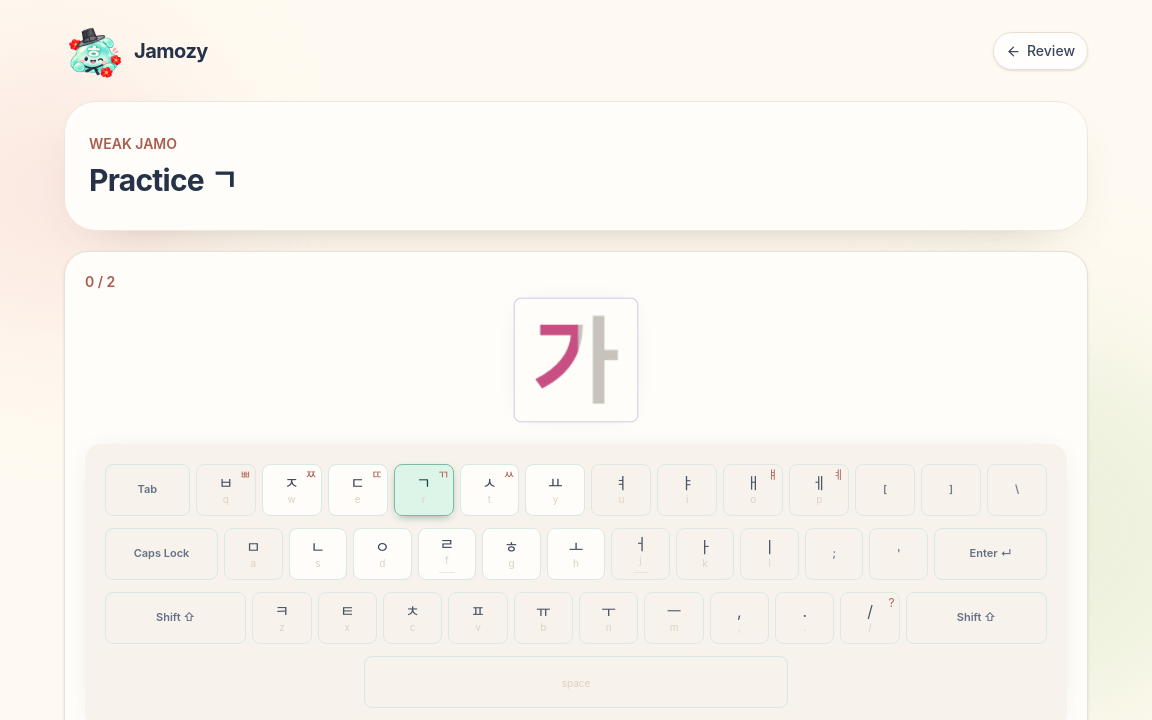
Scenario: WeakJamoPage › starts one new round with a newly drawn set on "Practice again"
The width and height of the screenshot is (1152, 720).
(page scrolled)
Expected: the picture named "가" is shown, [514, 298, 638, 422]
Press KeyR
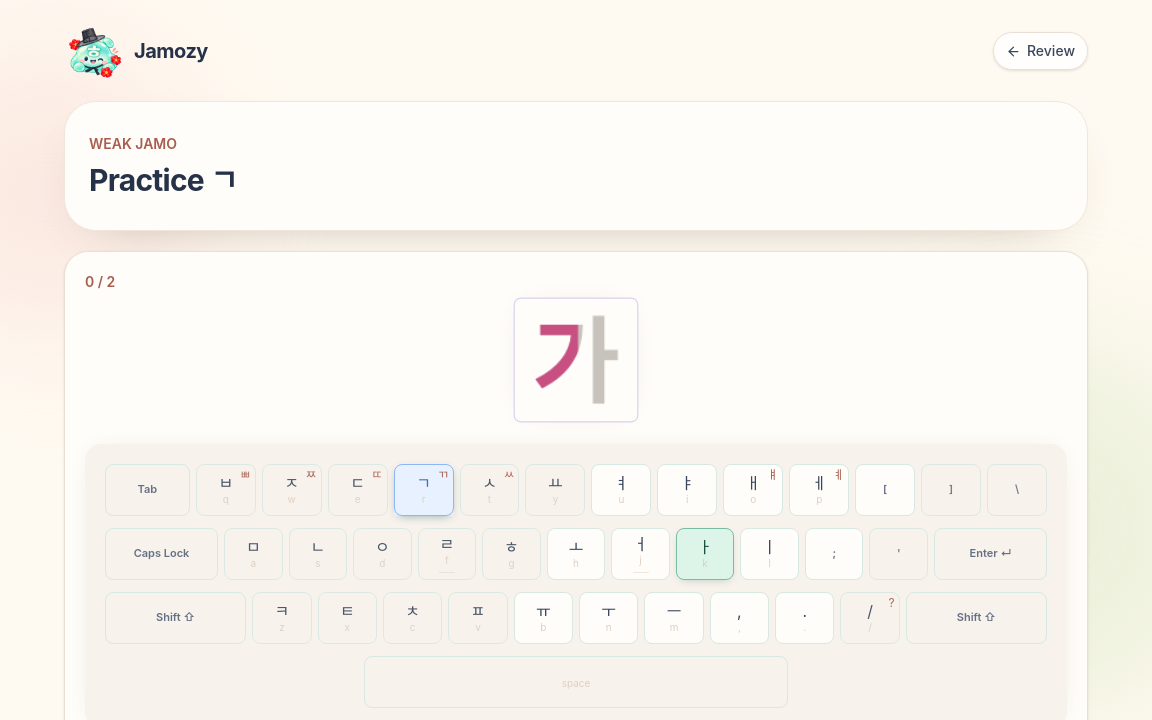
Press KeyK
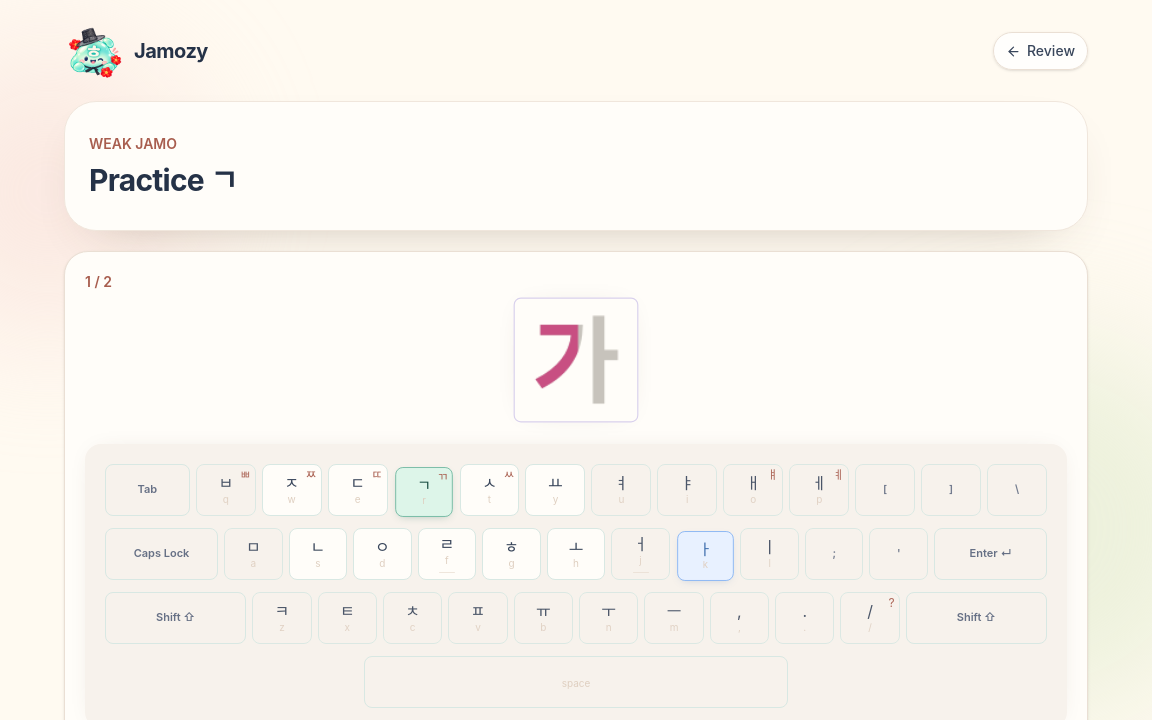
Expected: the picture named "가" is shown, [514, 298, 638, 422]
Press KeyR
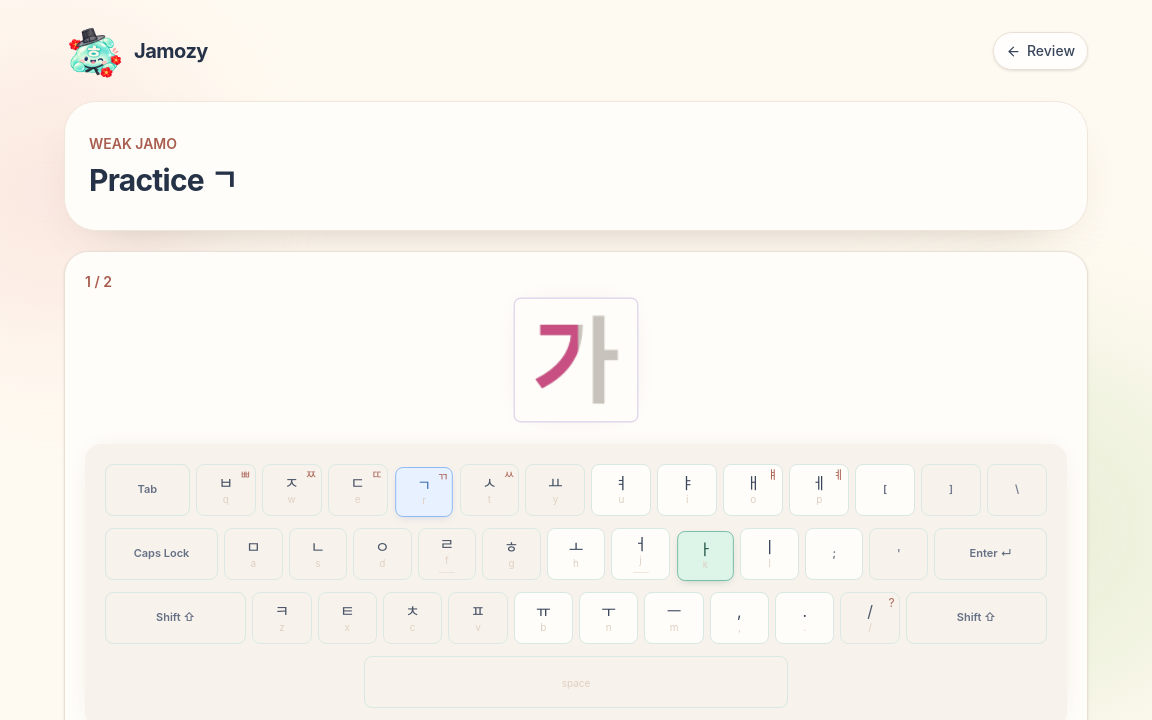
Press KeyK
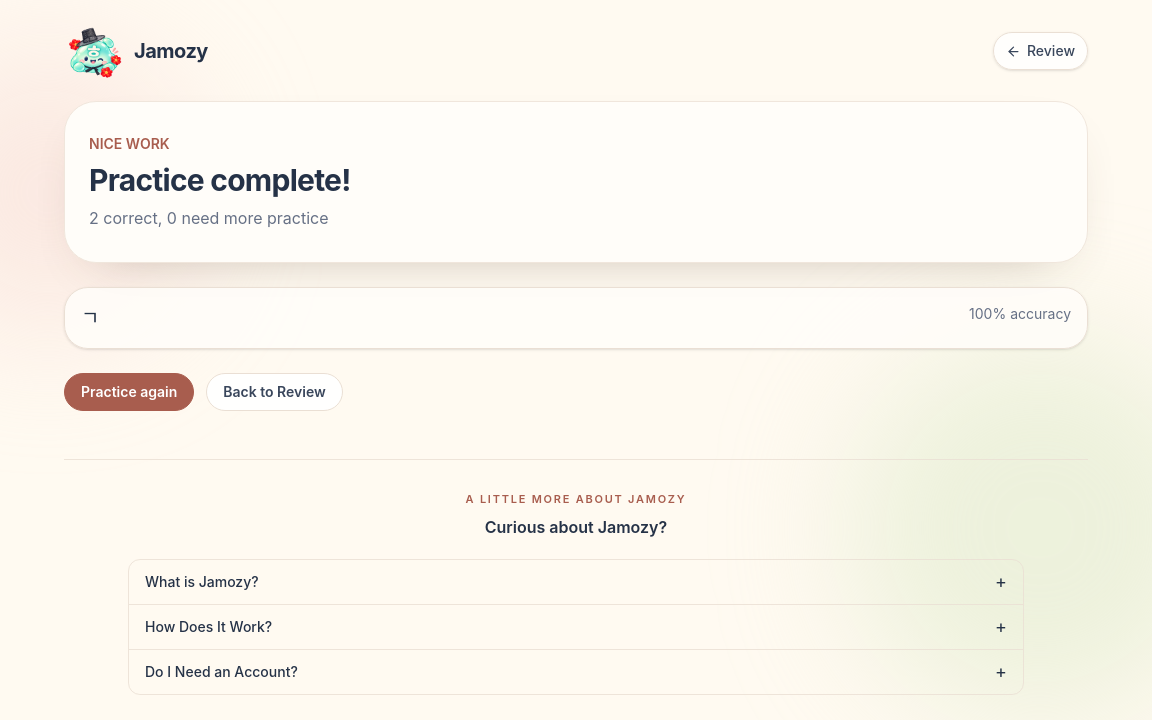
Click the button "Practice again": (129, 392) [64, 373, 194, 411]
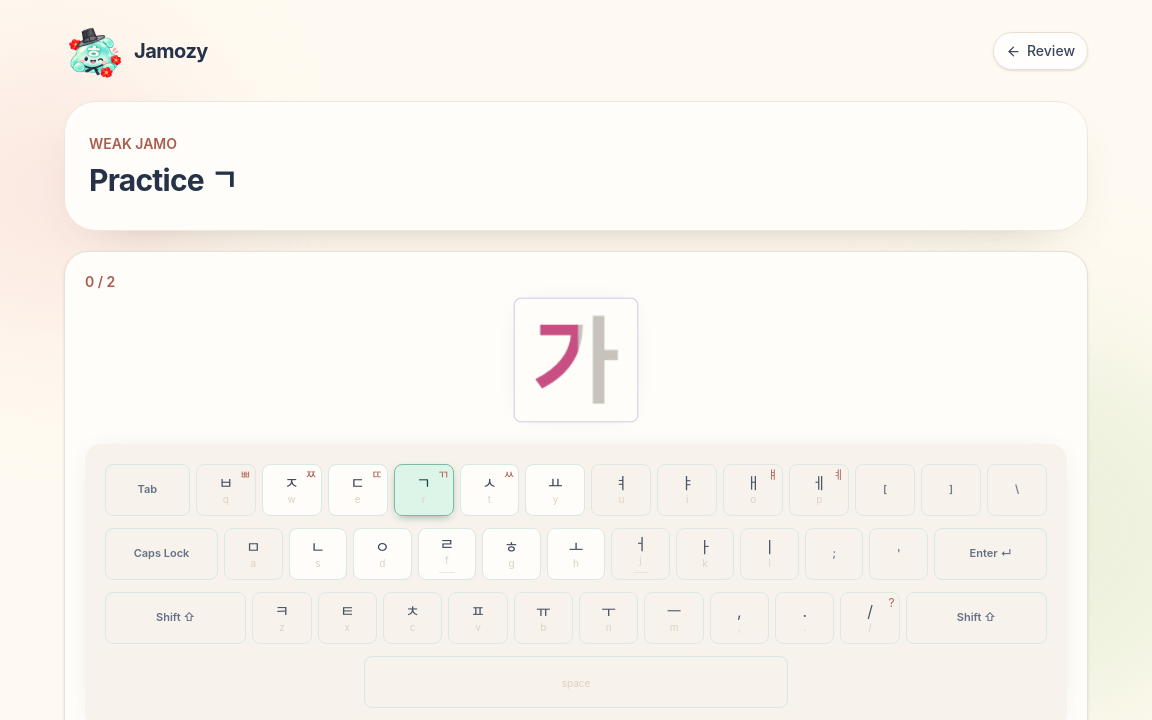
Expected: the picture named "가" is shown, [514, 298, 638, 422]
Expected: the heading "Practice complete!" is gone
